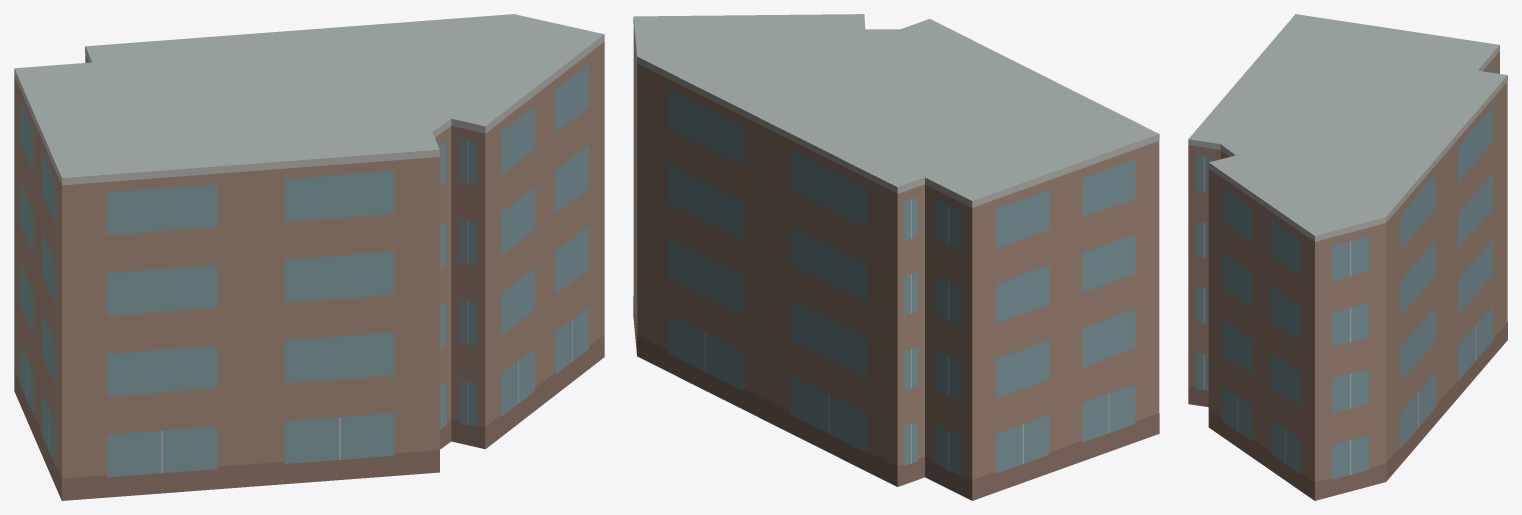
Rendered from survey-upis-32705880.glb.
The picture shows the model from 3 angles, left to right: view 1: azimuth 30°, elevation 25°; view 2: azimuth 150°, elevation 25°; view 3: azimuth 270°, elevation 25°; orthographic projection. The views are drawn at different scales.
Parts seen in each view (by area): view 1: survey-upis-32705880.tmp; view 2: survey-upis-32705880.tmp; view 3: survey-upis-32705880.tmp.
Boxes of the visible parts, <box> form: survey-upis-32705880.tmp: <box>14,14,604,500</box>; survey-upis-32705880.tmp: <box>633,14,1159,500</box>; survey-upis-32705880.tmp: <box>1188,14,1507,500</box>.
Bounding box in the file's own units: 19.61 × 10.9 × 11.93.
